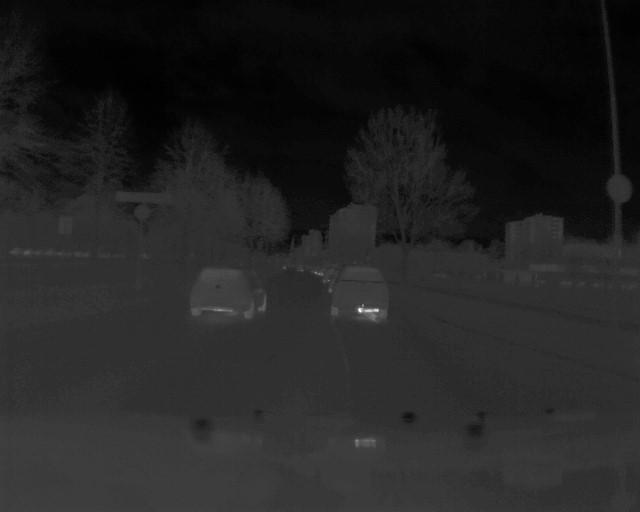car: (190, 266, 272, 319), (328, 262, 391, 326)
